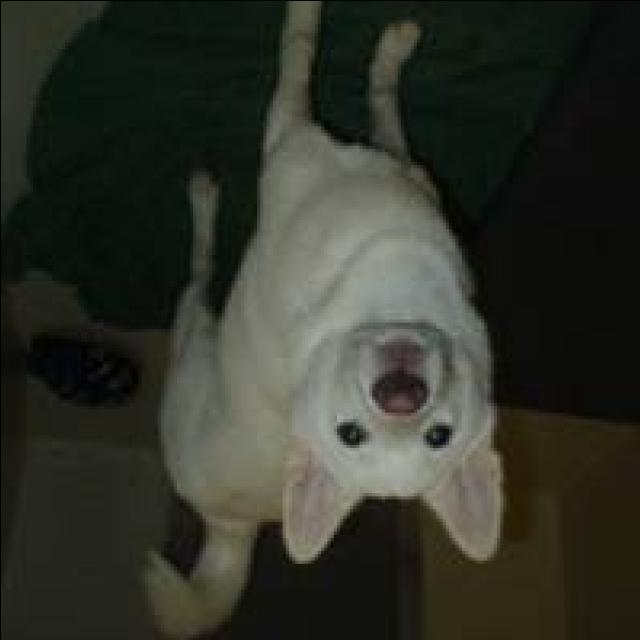dog: (95, 0, 557, 640)
